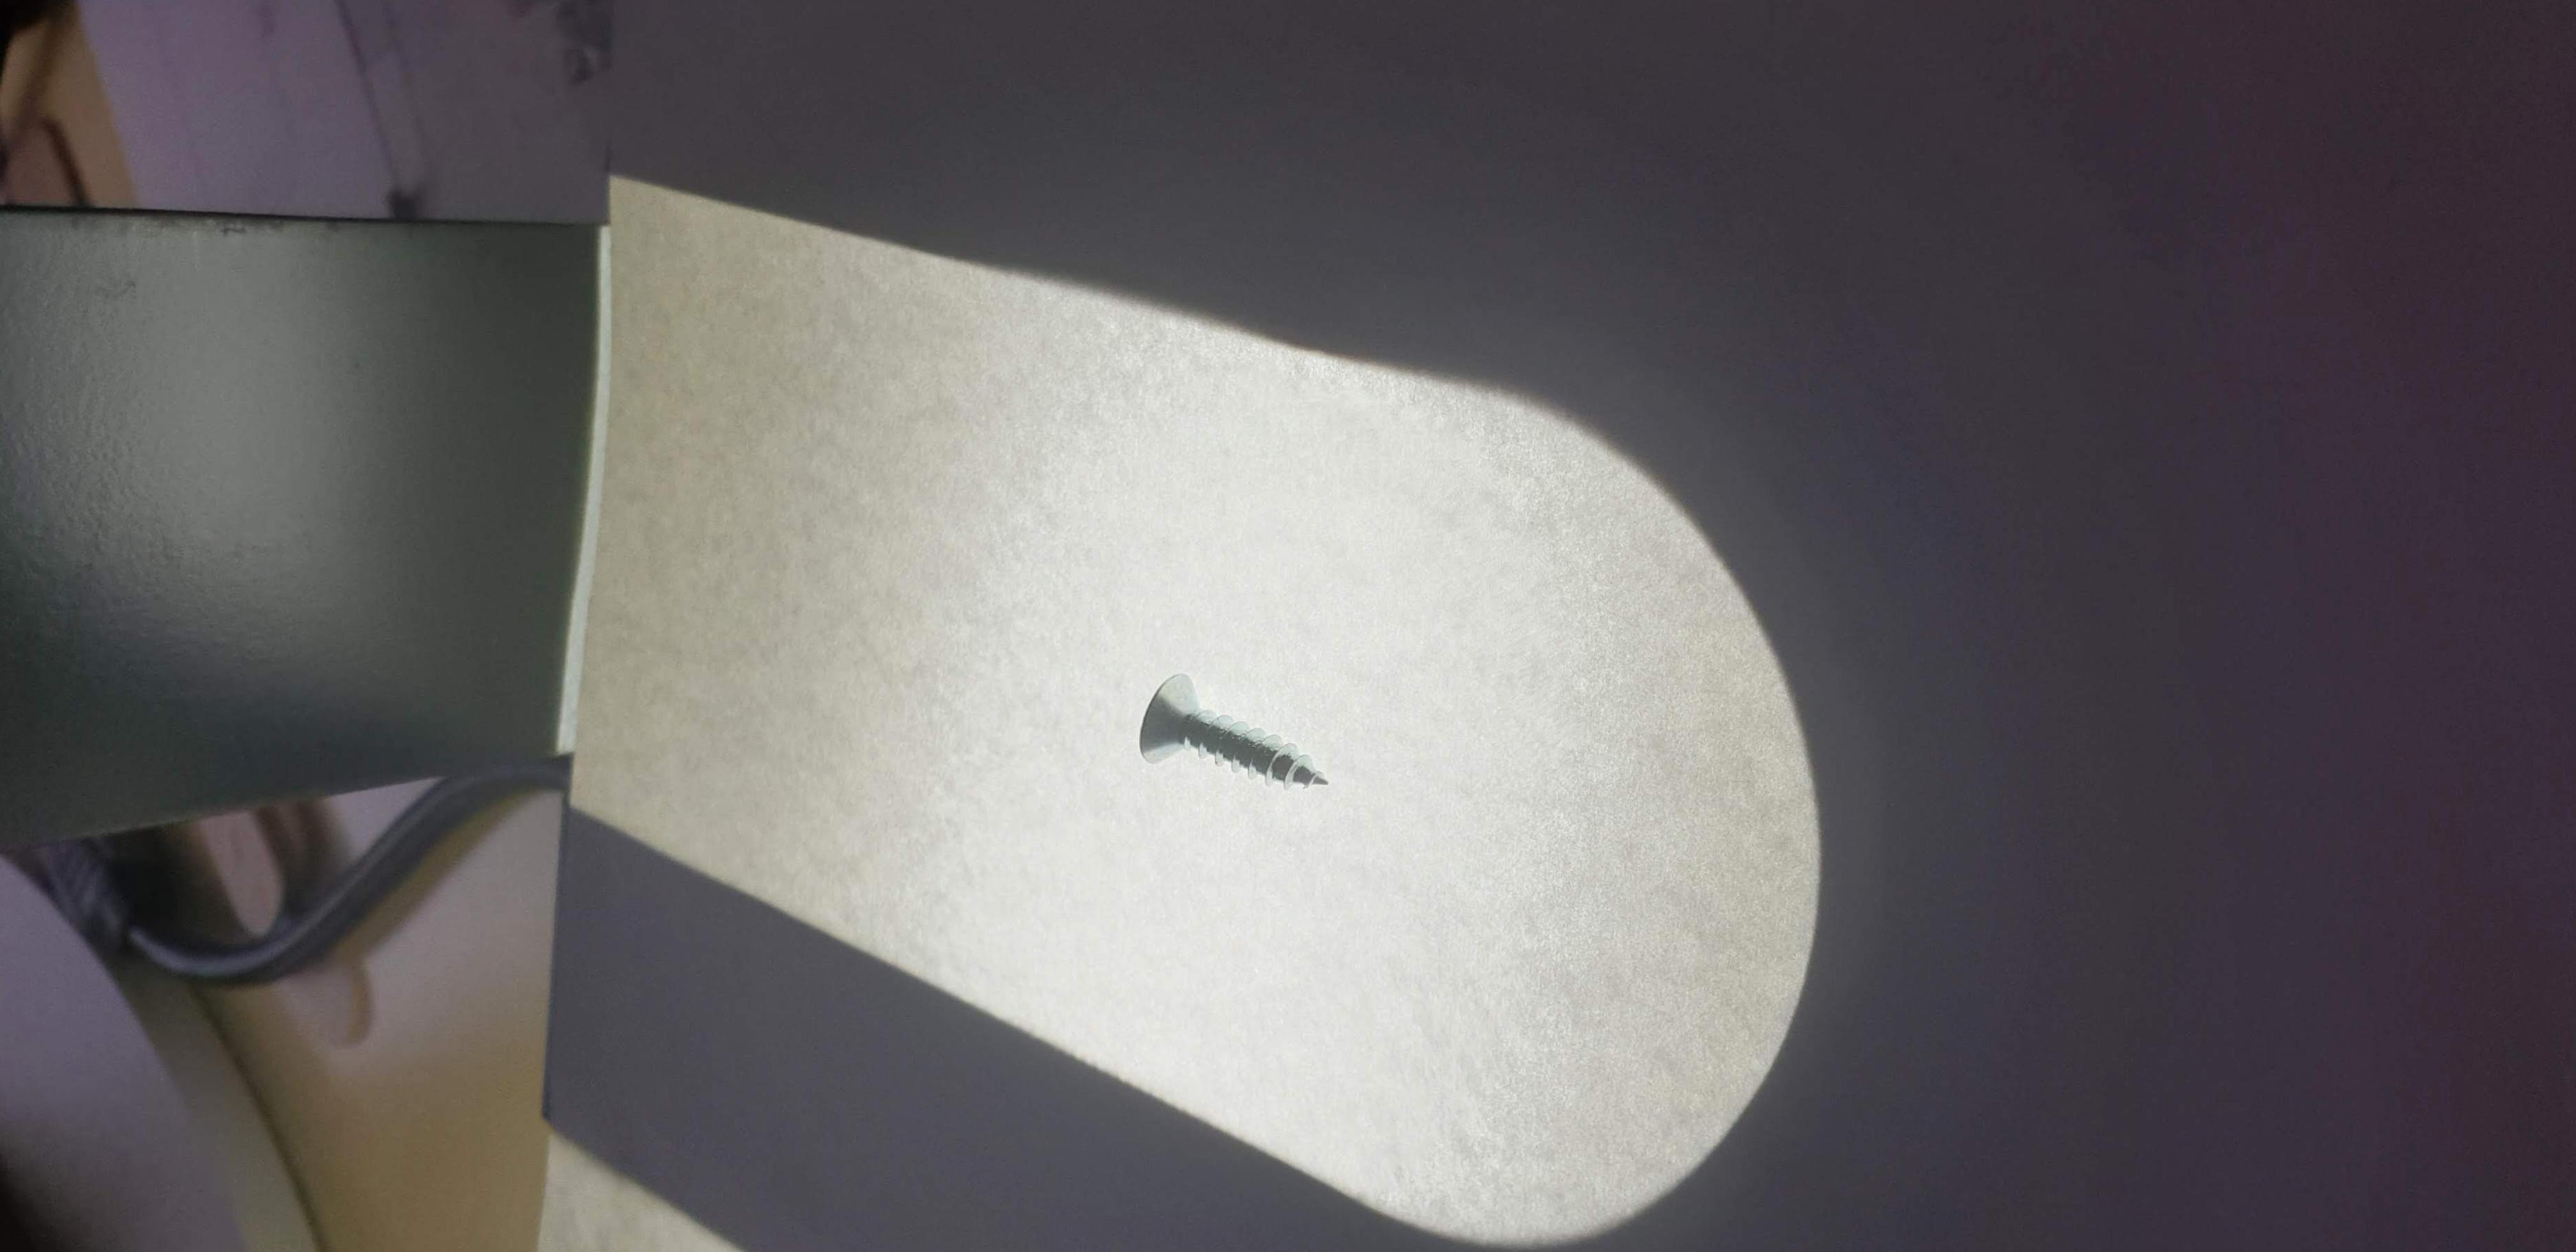S003: (1109, 652, 1349, 825)
